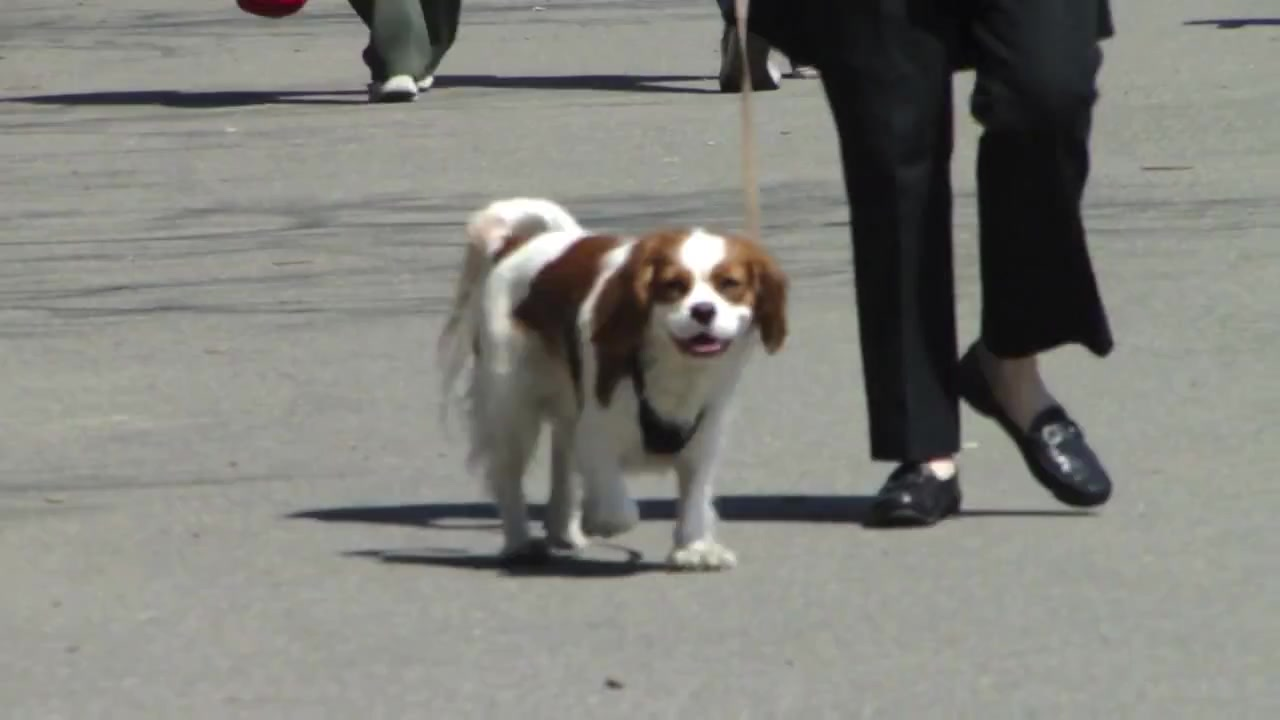dog: (436, 192, 793, 578)
